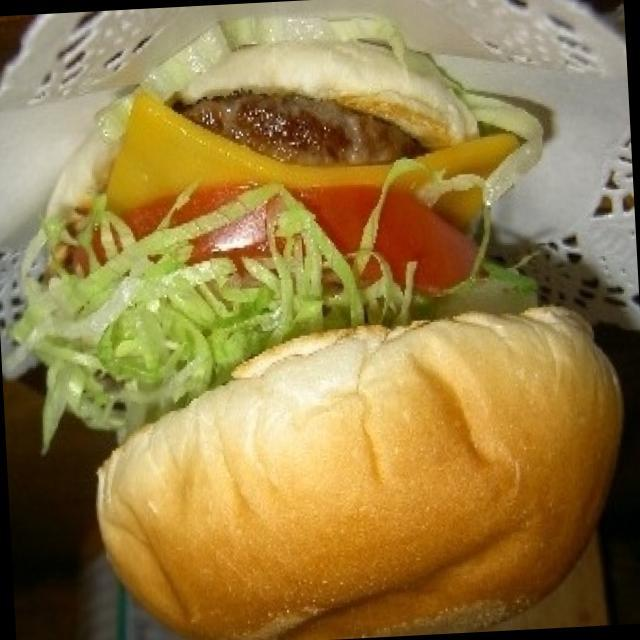Hamburger: (38, 16, 636, 640)
